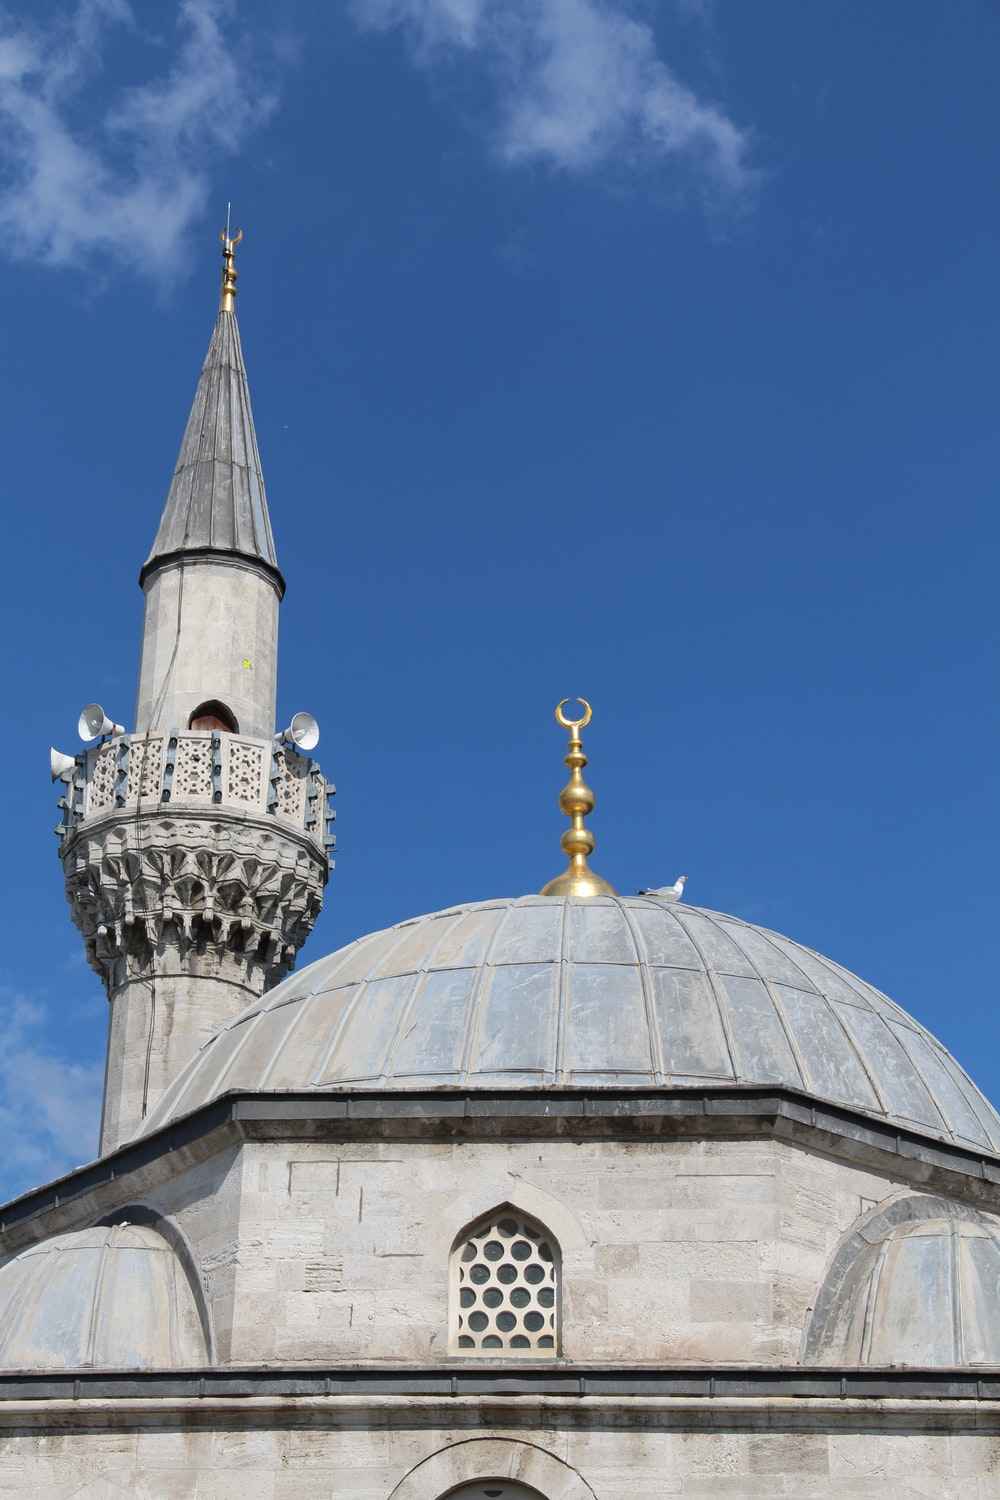Mosque: (32, 171, 980, 1420)
